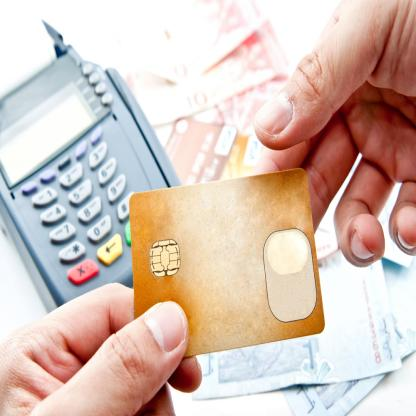tarjeta: (128, 166, 326, 360)
